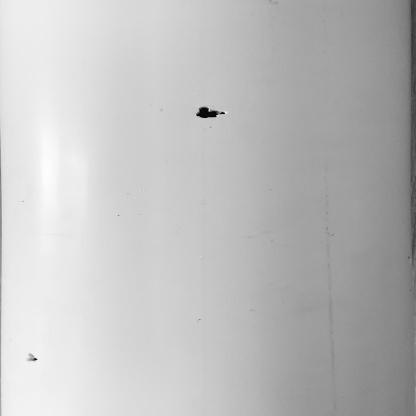kongdong: (196, 101, 236, 122), (20, 349, 42, 366)
